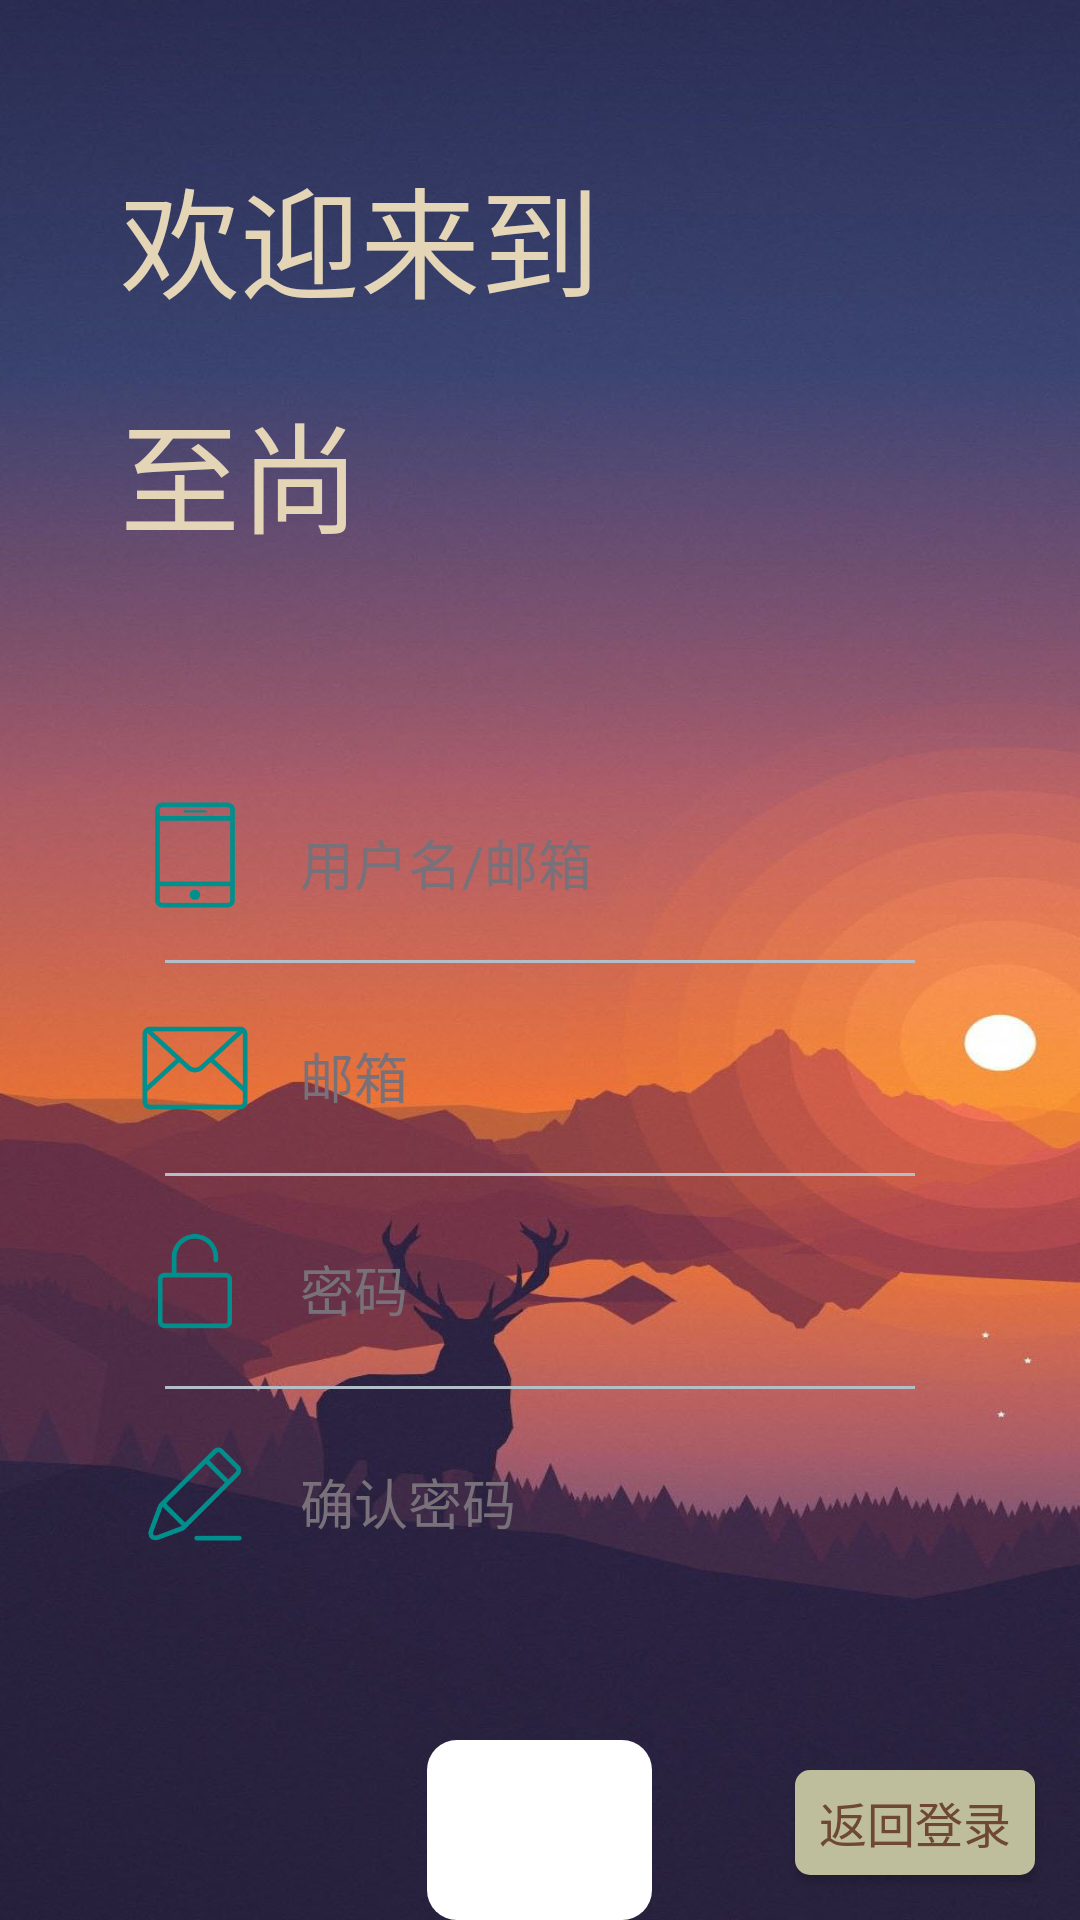

Icons on this 1080w x 1920h Android screen, each with its box as region(x1, y1, x2, y2):
eamil: region(135, 1010, 255, 1128)
password: region(158, 1234, 232, 1333)
